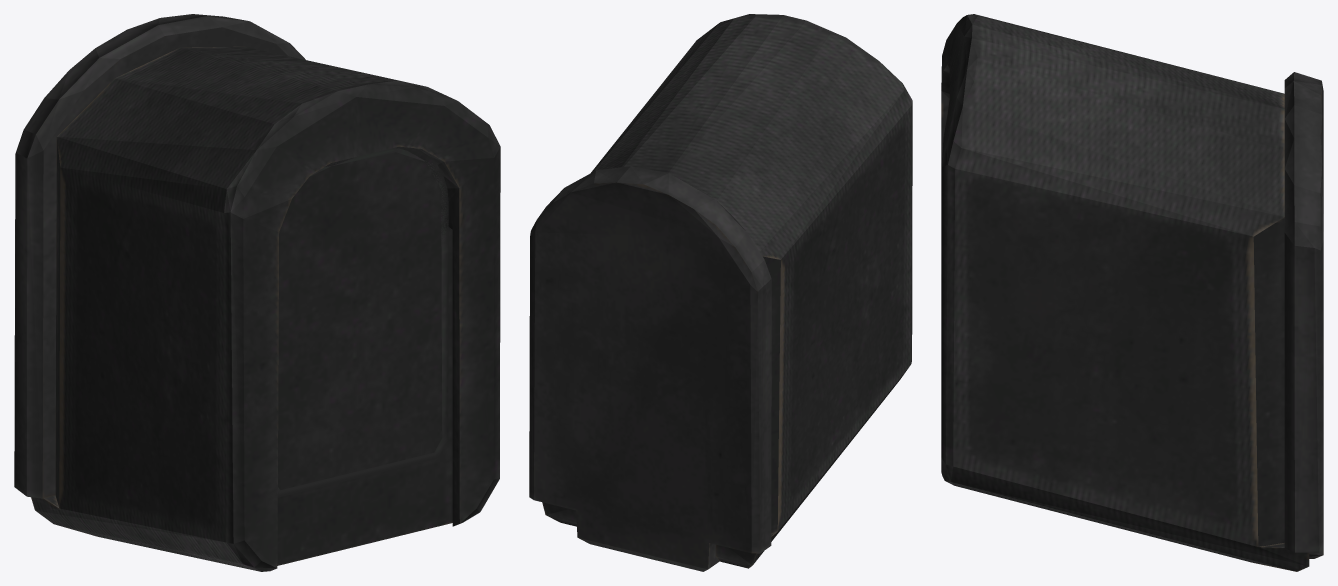
The model's file is Mag9ExtSm.fbx.
The picture shows the model from 3 angles, left to right: view 1: azimuth 30°, elevation 25°; view 2: azimuth 150°, elevation 25°; view 3: azimuth 270°, elevation 25°; orthographic projection. The views are drawn at different scales.
Visible parts, largest first — view 1: Mag9ExtSm; view 2: Mag9ExtSm; view 3: Mag9ExtSm.
Boxes of the visible parts, x1,y1,x2,y2 form: Mag9ExtSm: (14,14,500,571); Mag9ExtSm: (529,14,912,571); Mag9ExtSm: (941,14,1323,571).
Size of the model in its own units: 0.0273 by 0.0484 by 0.0338.
